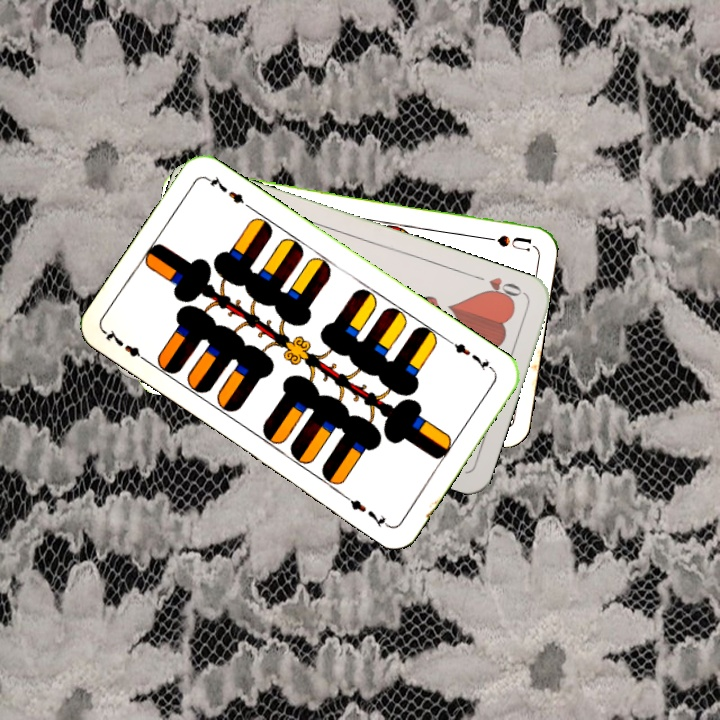E7: (101, 325, 153, 367), (444, 336, 497, 375)
HO: (469, 271, 527, 305)
SU: (473, 231, 533, 254)
